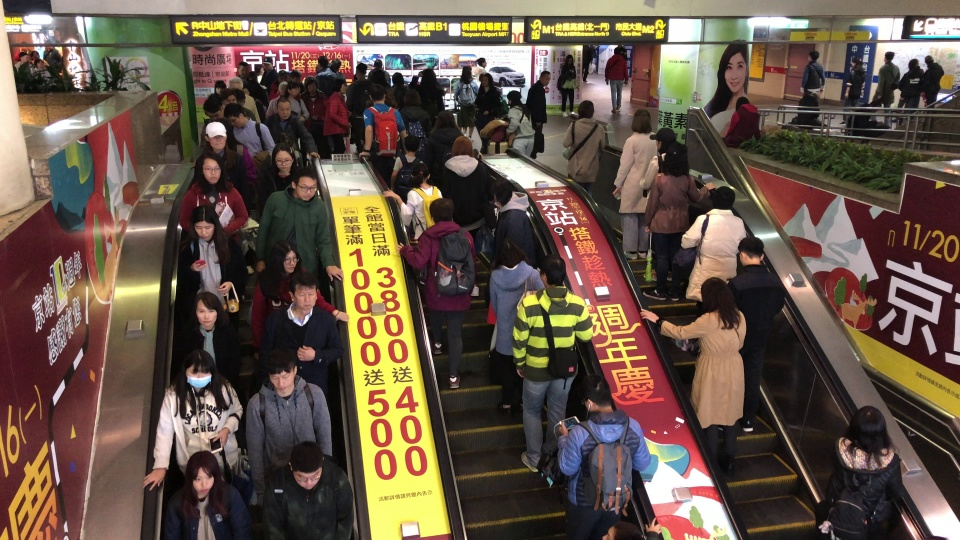person_head: (289, 439, 324, 490), (183, 450, 220, 493), (849, 404, 887, 444), (581, 372, 612, 414), (265, 349, 297, 389), (183, 349, 215, 387), (700, 276, 734, 311), (287, 272, 318, 310), (189, 204, 218, 240), (536, 253, 567, 286), (192, 291, 222, 325), (289, 167, 317, 201), (273, 240, 300, 274), (495, 236, 525, 266), (661, 144, 690, 174), (737, 236, 764, 265), (603, 520, 641, 540), (487, 178, 513, 207), (199, 151, 223, 182), (428, 196, 455, 222), (271, 142, 295, 170), (203, 121, 227, 149), (223, 102, 246, 129), (712, 186, 736, 209), (630, 108, 652, 133), (201, 97, 224, 120), (450, 135, 473, 157), (410, 162, 430, 184), (434, 109, 456, 128), (368, 83, 386, 104), (656, 127, 673, 149), (402, 135, 420, 154), (576, 100, 595, 118), (276, 133, 296, 149), (403, 88, 421, 105), (420, 67, 436, 85), (277, 98, 291, 118), (219, 90, 236, 106), (373, 69, 387, 87), (287, 81, 301, 97), (304, 76, 317, 93), (237, 60, 249, 78), (355, 63, 368, 79), (481, 72, 494, 88), (507, 90, 521, 104), (228, 76, 243, 89), (334, 78, 347, 93), (539, 70, 551, 86), (392, 71, 405, 85), (735, 95, 748, 109), (214, 79, 226, 94), (806, 49, 820, 61), (460, 65, 472, 78), (883, 50, 895, 62), (276, 69, 286, 83), (236, 91, 245, 106), (317, 55, 328, 67), (907, 57, 919, 68), (870, 99, 881, 111), (263, 56, 273, 69), (851, 55, 862, 66), (19, 52, 29, 63), (924, 54, 934, 65), (292, 69, 300, 82), (476, 57, 486, 67), (255, 64, 264, 74), (373, 58, 382, 68), (333, 58, 340, 69), (565, 57, 574, 65), (20, 41, 27, 50), (34, 59, 42, 66), (45, 39, 51, 48)
person_vbox: (638, 275, 747, 477), (510, 253, 594, 473), (394, 196, 478, 390), (555, 371, 651, 540), (142, 349, 243, 491), (244, 348, 333, 504), (717, 236, 785, 433), (251, 240, 350, 363), (641, 144, 717, 303), (825, 404, 903, 540), (254, 167, 344, 283), (259, 272, 344, 392), (488, 236, 544, 412), (262, 439, 355, 540), (442, 136, 493, 298), (679, 186, 747, 303), (163, 450, 251, 540), (381, 162, 442, 286), (180, 204, 248, 315), (611, 108, 658, 260), (178, 151, 248, 244), (637, 127, 676, 281), (192, 121, 252, 213), (179, 291, 240, 381), (486, 177, 535, 276), (562, 100, 607, 199), (425, 109, 484, 181), (356, 83, 407, 158), (267, 97, 319, 160), (223, 103, 275, 162), (258, 141, 295, 217), (869, 50, 901, 126), (525, 70, 552, 157), (190, 96, 223, 167), (322, 77, 352, 153), (399, 87, 432, 156), (389, 134, 424, 197), (720, 96, 761, 148), (890, 58, 922, 123), (346, 62, 368, 153), (837, 55, 865, 126), (453, 65, 479, 141), (799, 49, 827, 119), (258, 134, 303, 177), (506, 89, 534, 156), (473, 72, 503, 132), (227, 74, 261, 123), (845, 99, 882, 137), (604, 58, 629, 113), (303, 76, 327, 132), (556, 57, 578, 118), (922, 54, 945, 109), (365, 69, 397, 108), (419, 67, 445, 115), (287, 81, 309, 120), (314, 55, 336, 93), (42, 38, 61, 69), (269, 69, 287, 98), (260, 56, 276, 85), (14, 52, 35, 73), (14, 40, 31, 62), (33, 58, 51, 78), (472, 56, 487, 80), (582, 57, 594, 83)
